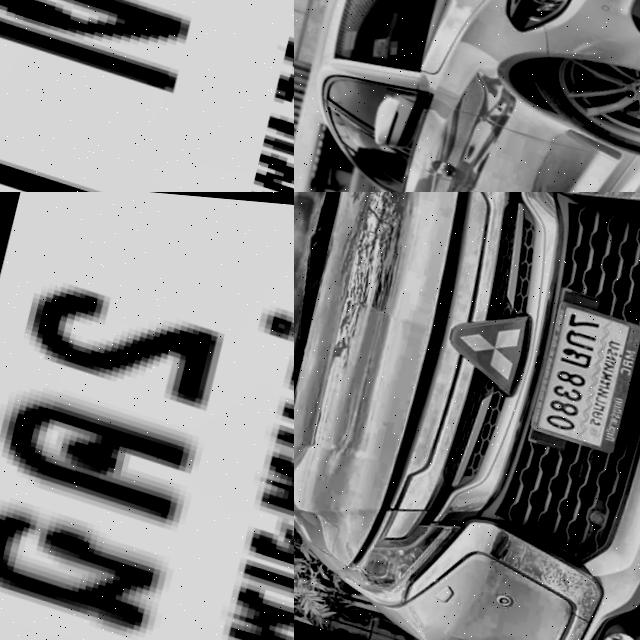license-plate: (0, 192, 294, 640), (0, 0, 294, 192), (526, 288, 640, 454)
